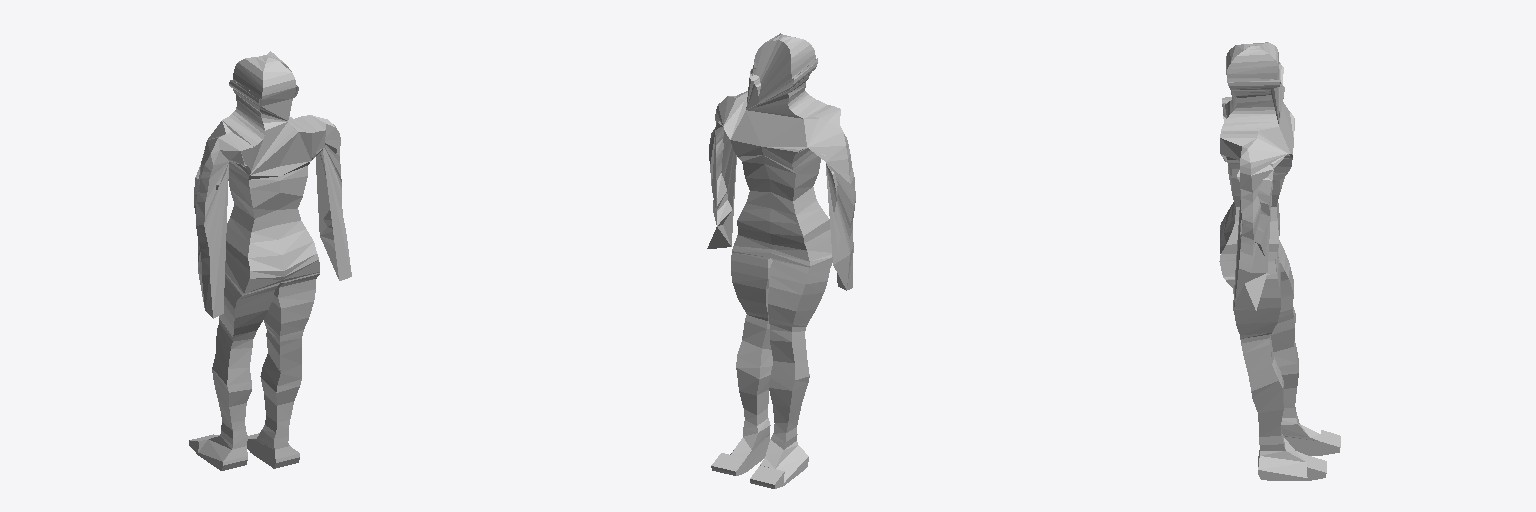
File: woman_000040.obj
The picture shows the model from 3 angles: view 1: azimuth 30°, elevation 25°; view 2: azimuth 150°, elevation 25°; view 3: azimuth 270°, elevation 25°; orthographic projection.
Visible parts, largest first — view 1: Cube_Cube.001; view 2: Cube_Cube.001; view 3: Cube_Cube.001.
Boxes of the visible parts, x1=… form: Cube_Cube.001: x1=189, y1=51, x2=351, y2=470; Cube_Cube.001: x1=707, y1=33, x2=855, y2=488; Cube_Cube.001: x1=1219, y1=42, x2=1340, y2=480.
Size of the model in its own units: 3.62 by 9.92 by 2.61.